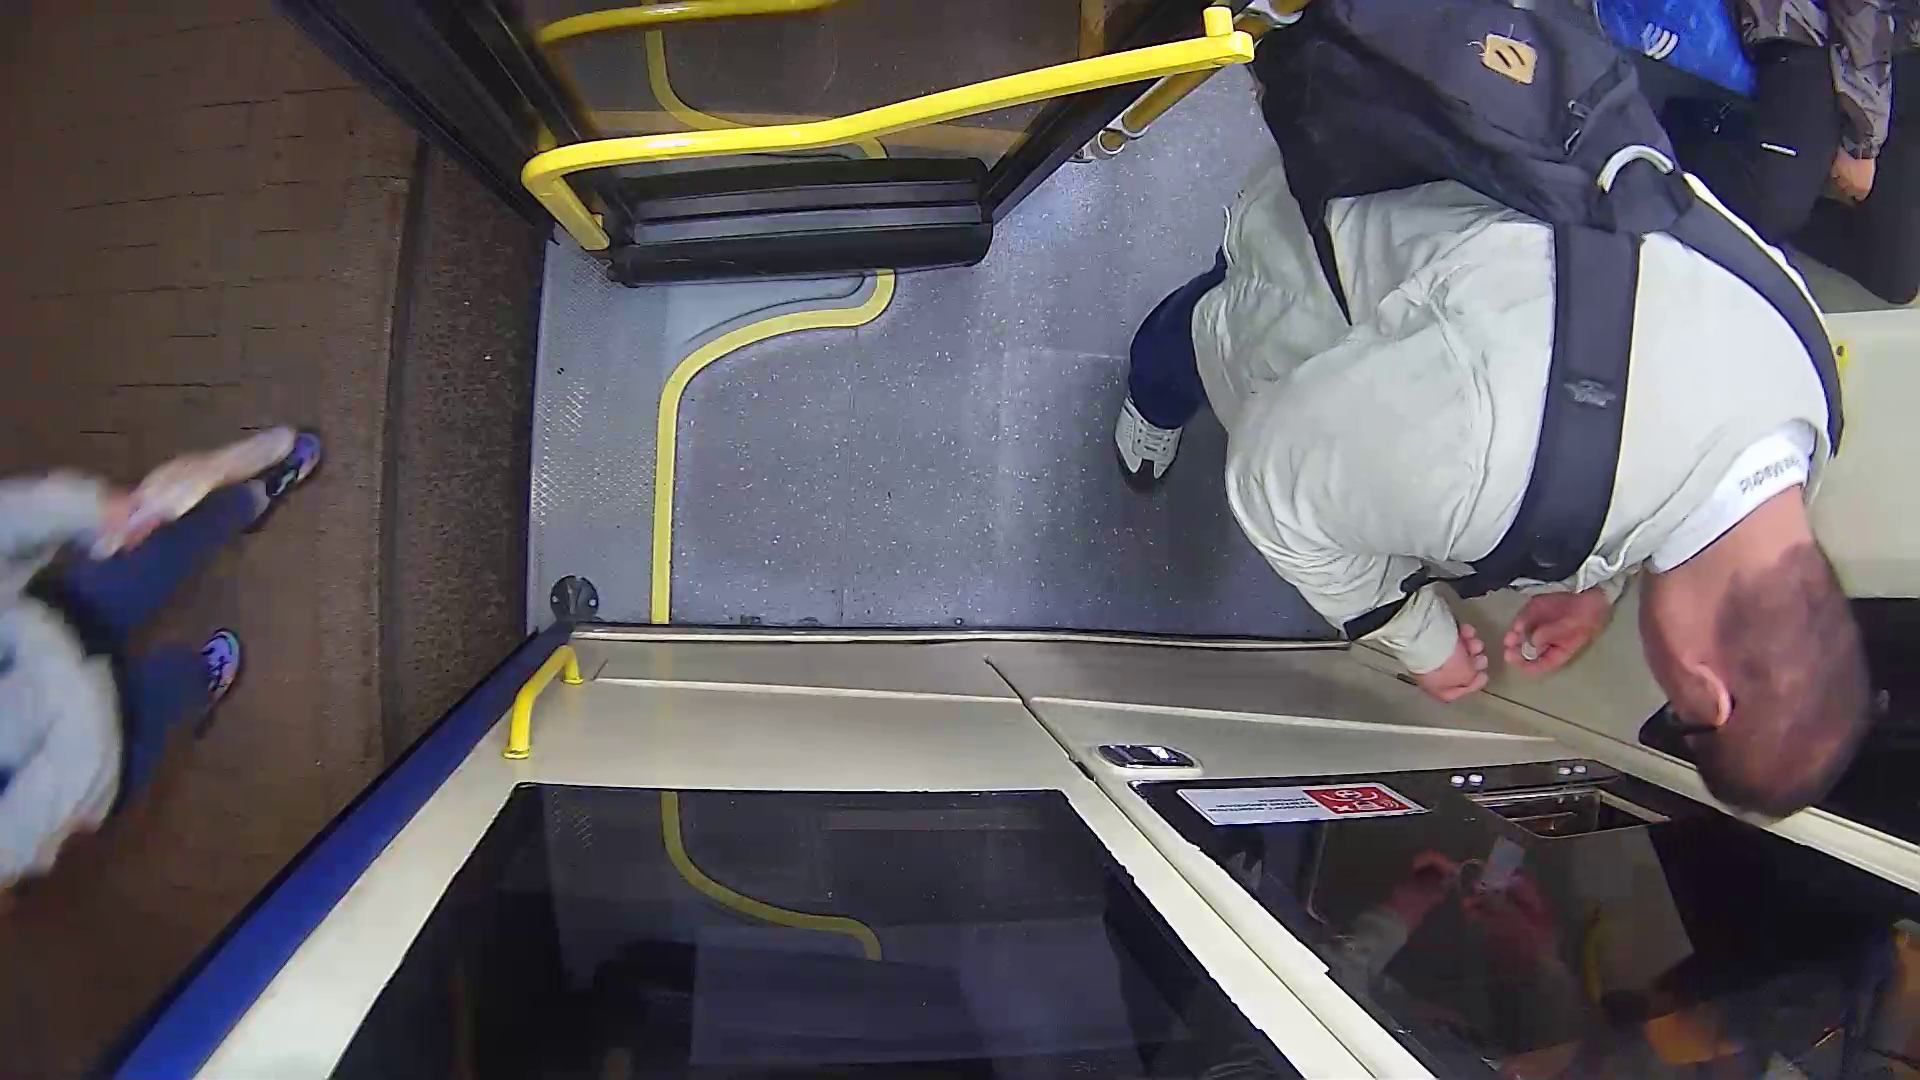person: (1192, 105, 1869, 817)
